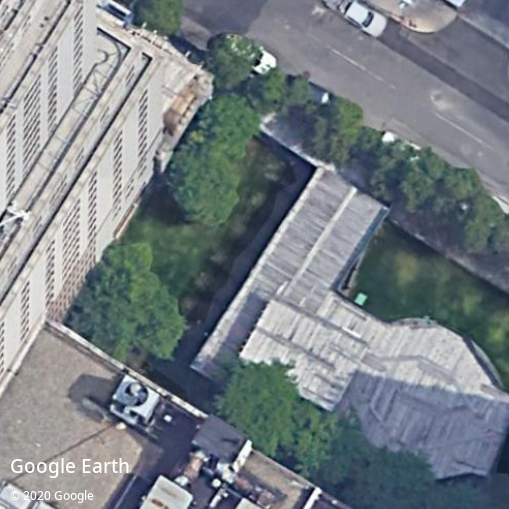Vent: (124, 382, 148, 406)
